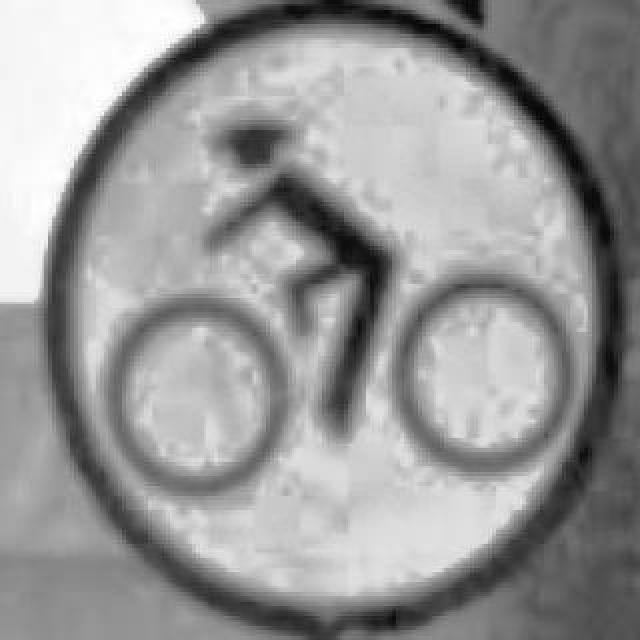bike lane: (38, 6, 614, 630)
